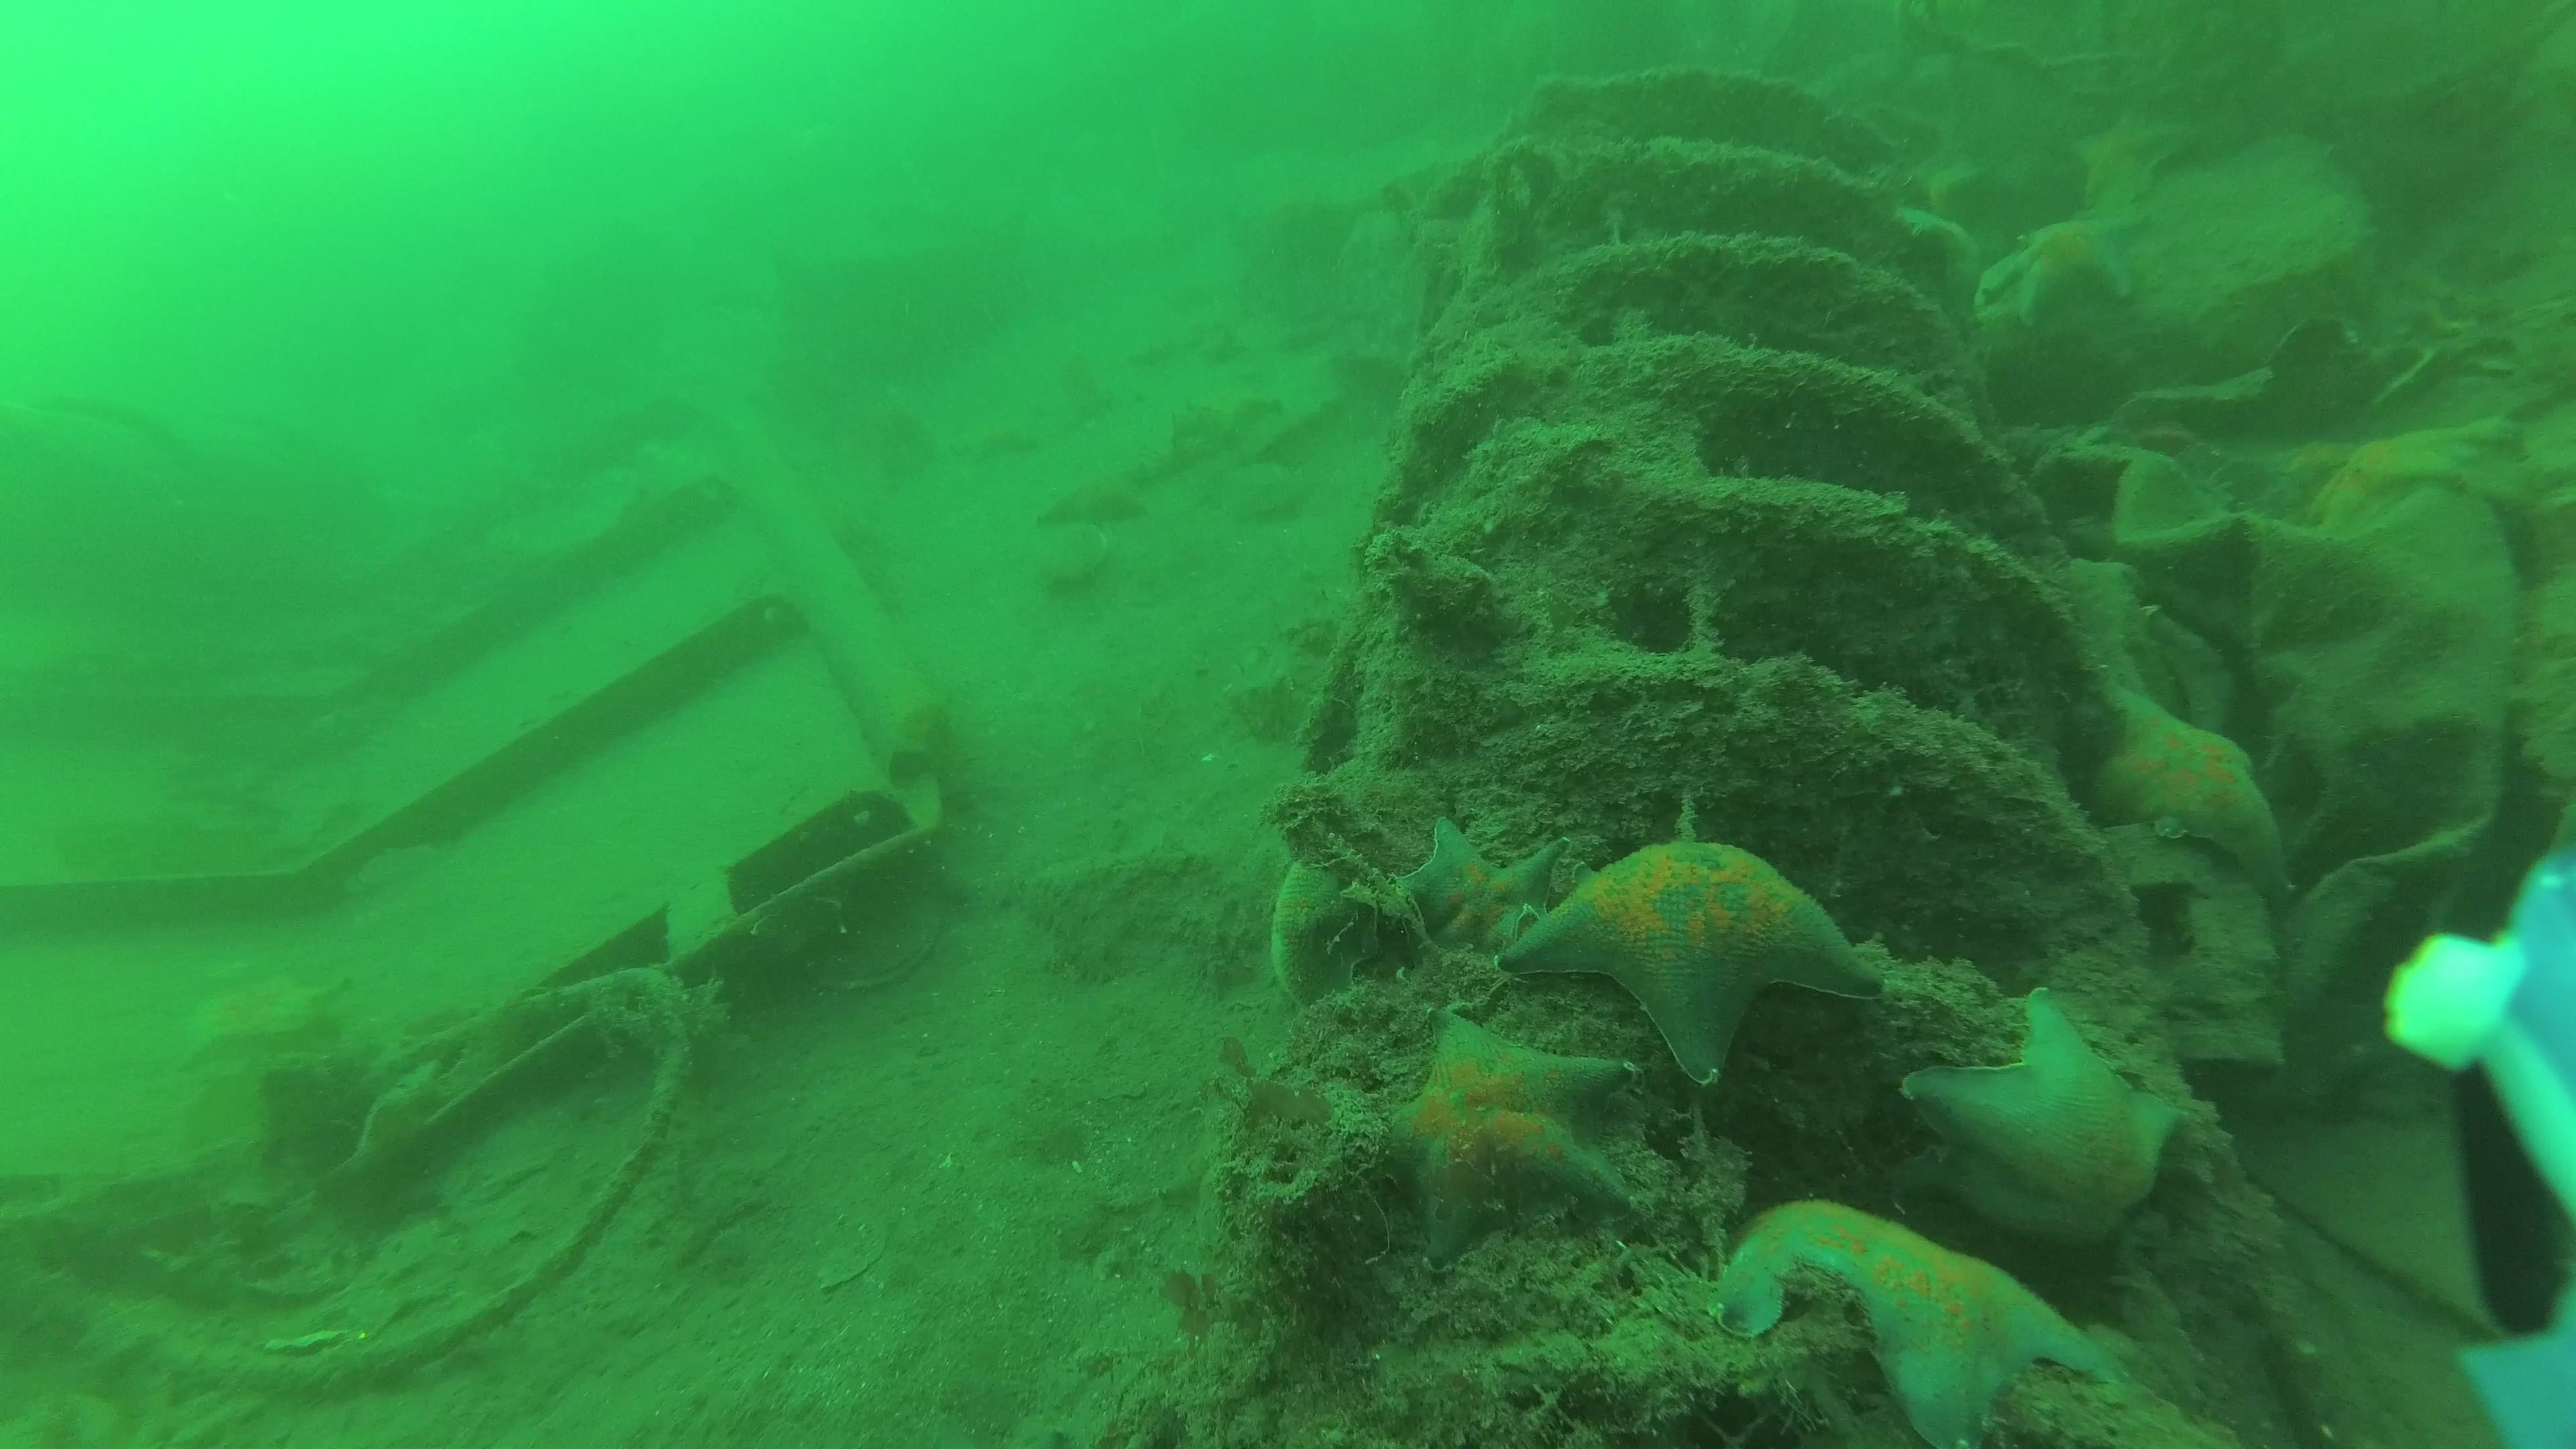scallop: (1019, 513, 1115, 593)
starfish: (1711, 1198, 2118, 1449), (1504, 833, 1882, 1083), (1900, 993, 2185, 1253), (1384, 1010, 1637, 1265), (2100, 685, 2289, 899), (1391, 819, 1571, 975), (2316, 423, 2479, 536), (1978, 219, 2135, 326), (2066, 101, 2196, 202), (184, 978, 333, 1060)
